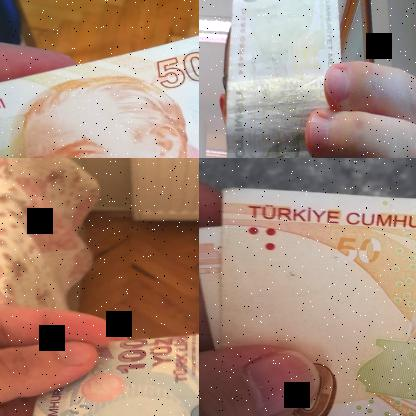5 TL: (0, 27, 198, 157)
